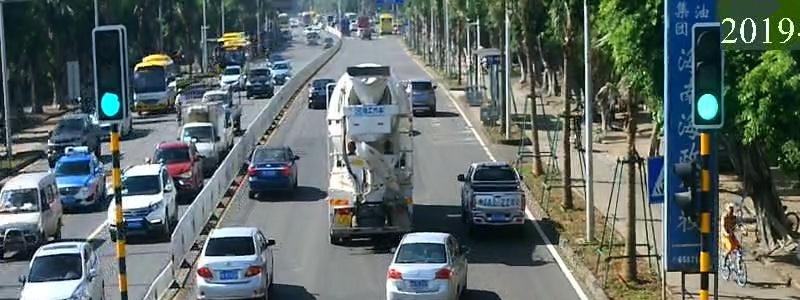green: (82, 87, 142, 128), (687, 83, 734, 132)
